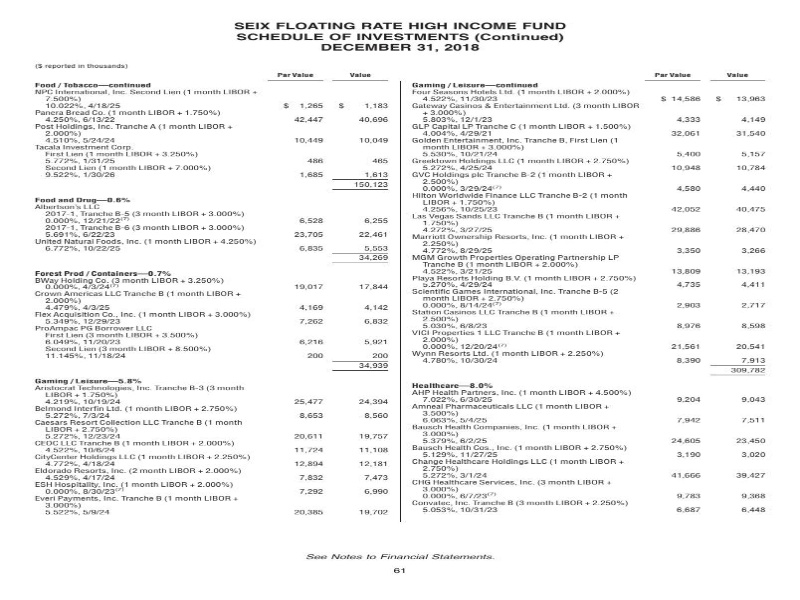table: (20, 57, 408, 543), (393, 66, 785, 531)
